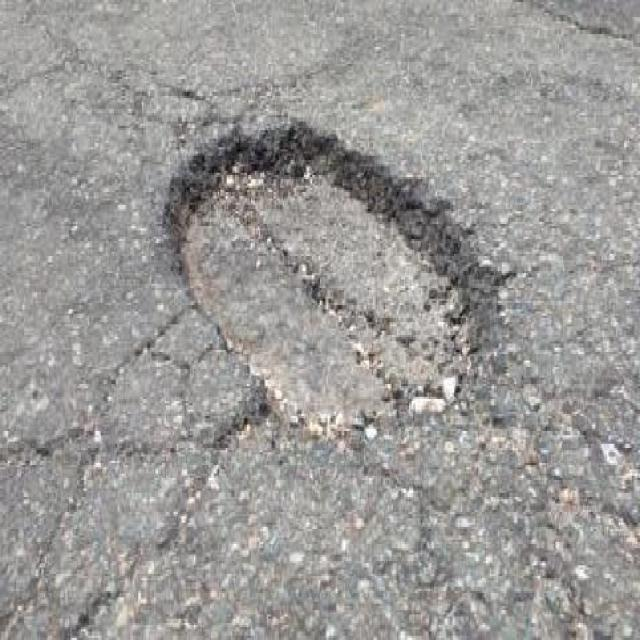Pothole: (162, 114, 511, 445)
